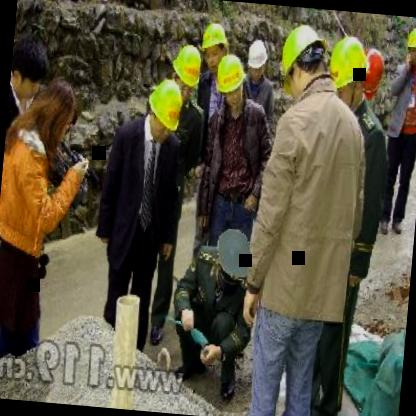head: (20, 74, 83, 164), (8, 30, 53, 107)
helmet: (275, 22, 329, 98), (327, 32, 370, 110), (146, 78, 186, 142), (212, 50, 248, 112), (172, 40, 204, 96), (360, 46, 387, 102), (200, 20, 227, 70), (244, 33, 271, 82), (403, 23, 416, 67)
